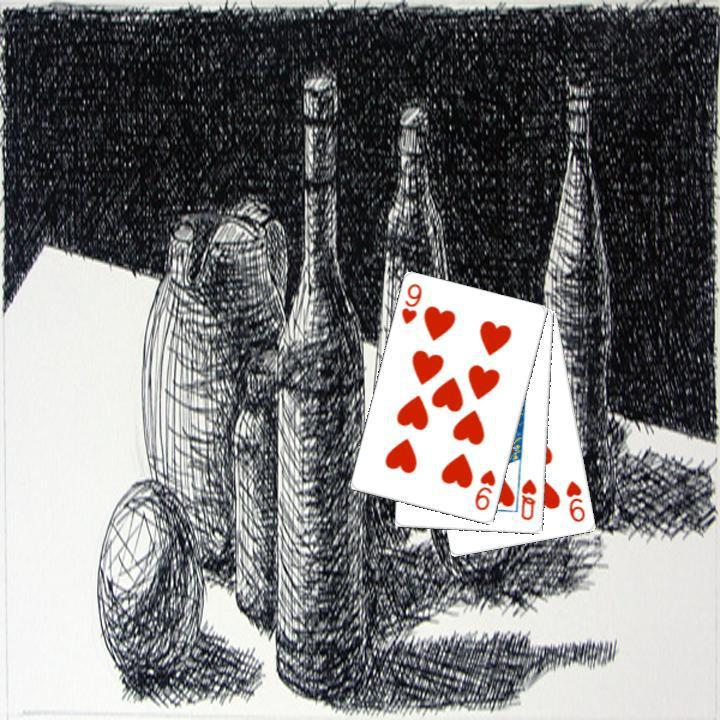9: (471, 465, 498, 513), (397, 279, 424, 327), (562, 476, 588, 524)
Q: (517, 475, 539, 523)
